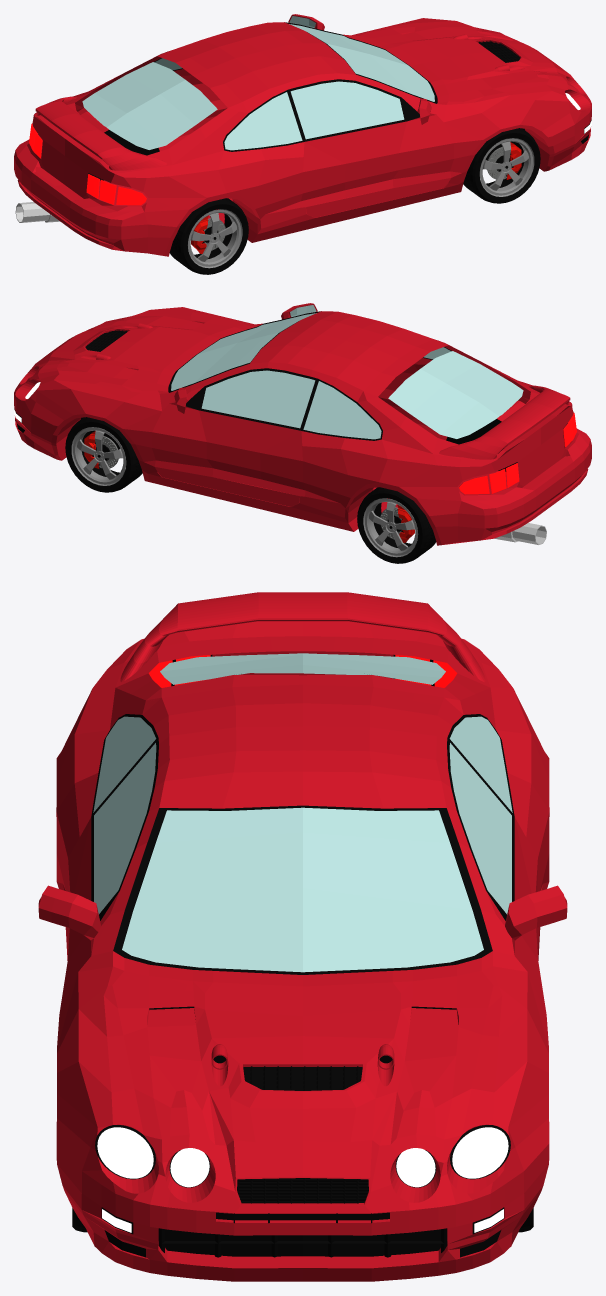
Rendered from celica6.glb.
The picture shows the model from 3 angles, top to bottom: view 1: azimuth 30°, elevation 25°; view 2: azimuth 150°, elevation 25°; view 3: azimuth 270°, elevation 25°; orthographic projection. The views are drawn at different scales.
Parts seen in each view (by area): view 1: celica6; view 2: celica6; view 3: celica6.
Boxes of the visible parts, bbox=[...] form: celica6: bbox=[14, 14, 591, 274]; celica6: bbox=[14, 303, 591, 563]; celica6: bbox=[38, 592, 567, 1281].
Size of the model in its own units: 4.42 by 1.27 by 1.94.
